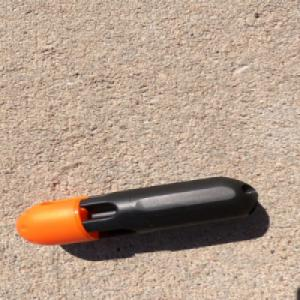PlasticPart: (13, 175, 259, 246)
